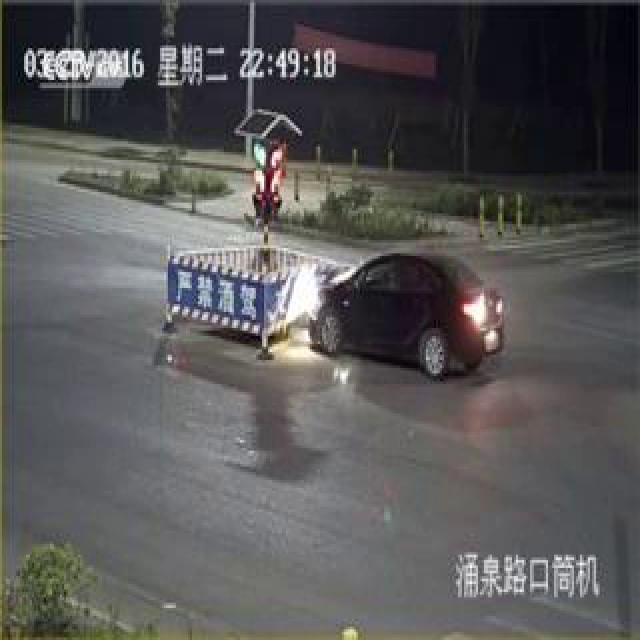vandalism: (294, 92, 477, 555)
